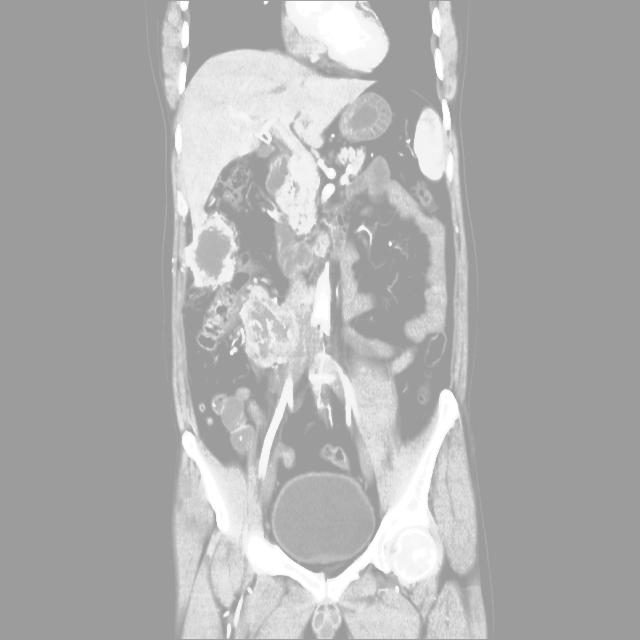TUMOR: (176, 174, 394, 384)
